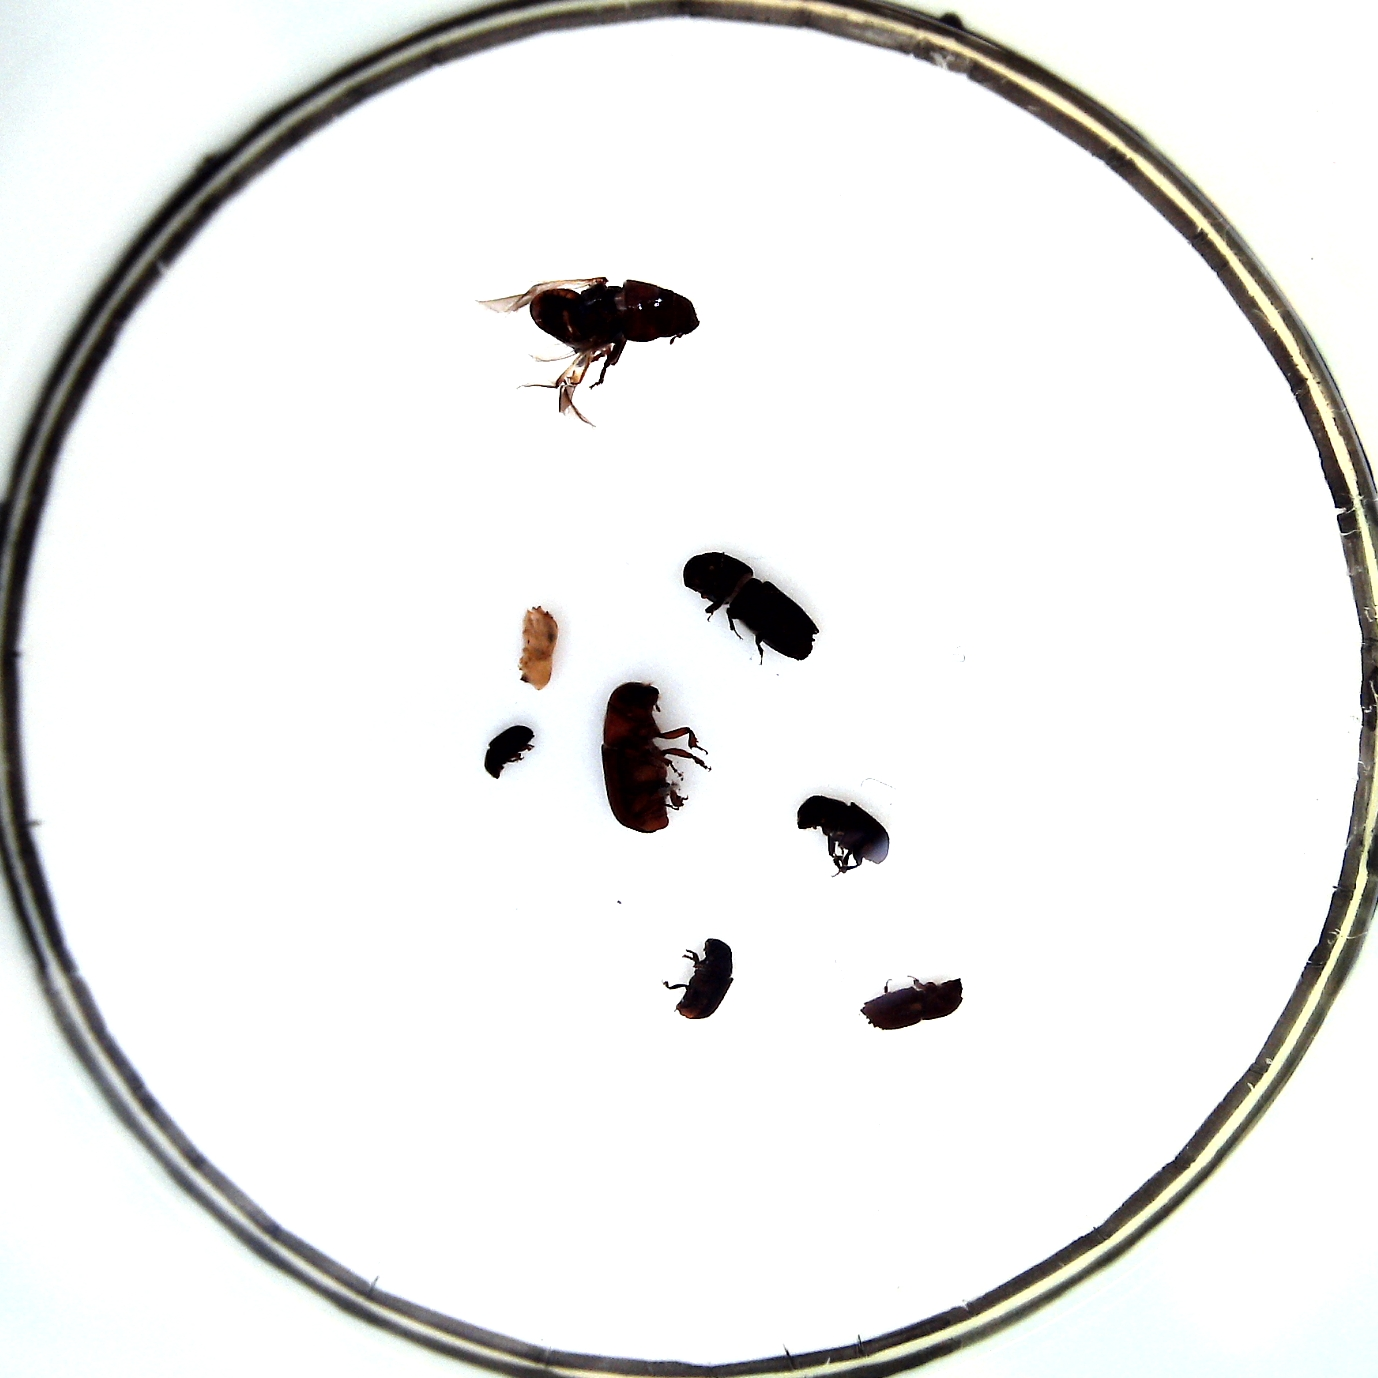Boerner: (681, 551, 816, 668)
Leconte: (602, 683, 712, 832), (527, 278, 699, 356)
acuminatus: (482, 723, 536, 780)
armandi: (798, 792, 888, 876), (662, 938, 734, 1020)
coleoptera: (517, 604, 556, 689)
linnaeus: (862, 973, 963, 1032)
